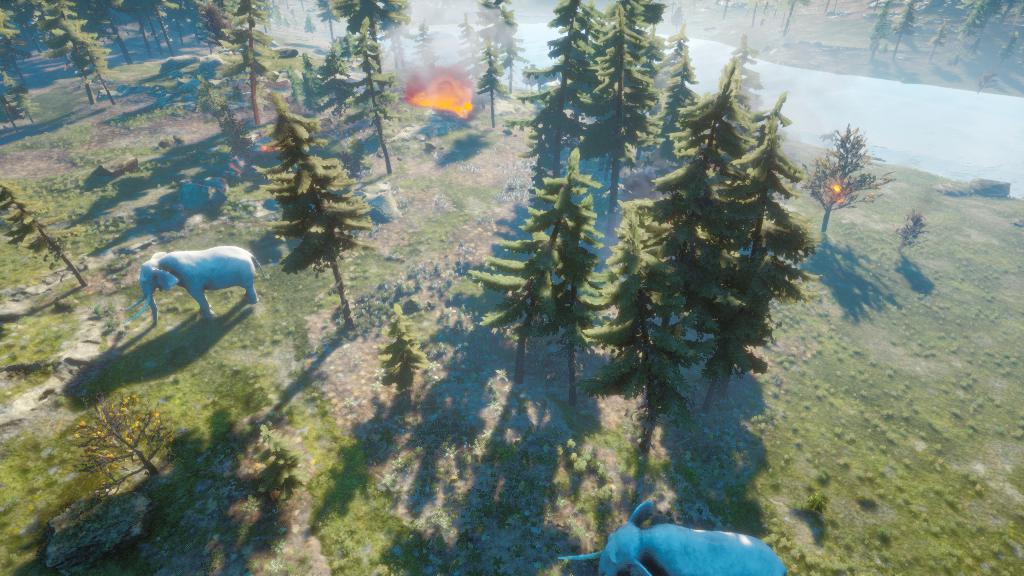Fire: (410, 83, 479, 127), (824, 177, 855, 210)
elephant: (560, 495, 800, 575), (119, 245, 279, 335)
smoke: (377, 2, 505, 106)
